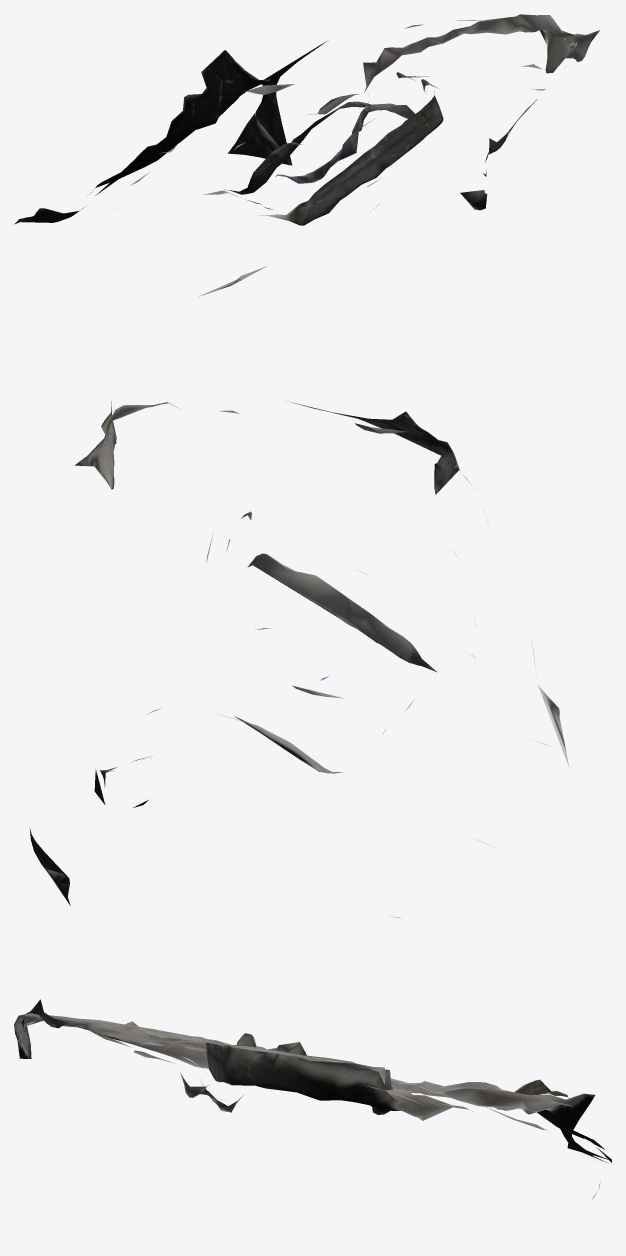
The model's file is hall.glb.
The picture shows the model from 3 angles, top to bottom: view 1: azimuth 30°, elevation 25°; view 2: azimuth 150°, elevation 25°; view 3: azimuth 270°, elevation 25°; orthographic projection. The views are drawn at different scales.
Bounding box in the file's own units: 1.01 × 0.5197 × 1.08.
Materials: 1 (1 with a texture image).
